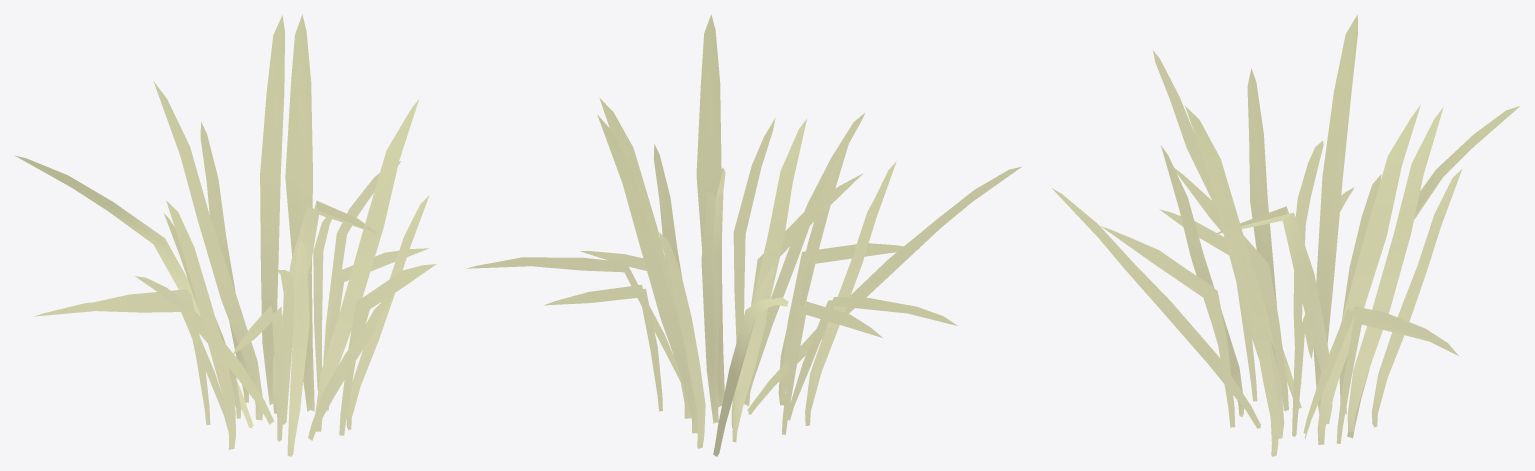
File: SnowGrass_Wispy_Short.obj
3 views of the same model, side by side, from view 1: azimuth 30°, elevation 25°; view 2: azimuth 150°, elevation 25°; view 3: azimuth 270°, elevation 25° (orthographic). The views are drawn at different scales.
Parts seen in each view (by area): view 1: SnowGrass_Wispy_Short; view 2: SnowGrass_Wispy_Short; view 3: SnowGrass_Wispy_Short.
Boxes of the visible parts, <box> form: SnowGrass_Wispy_Short: <box>15,14,436,456</box>; SnowGrass_Wispy_Short: <box>466,14,1021,456</box>; SnowGrass_Wispy_Short: <box>1052,14,1519,456</box>.
Size of the model in its own units: 1.32 by 1.07 by 1.21.
1 material, 1 textured.
